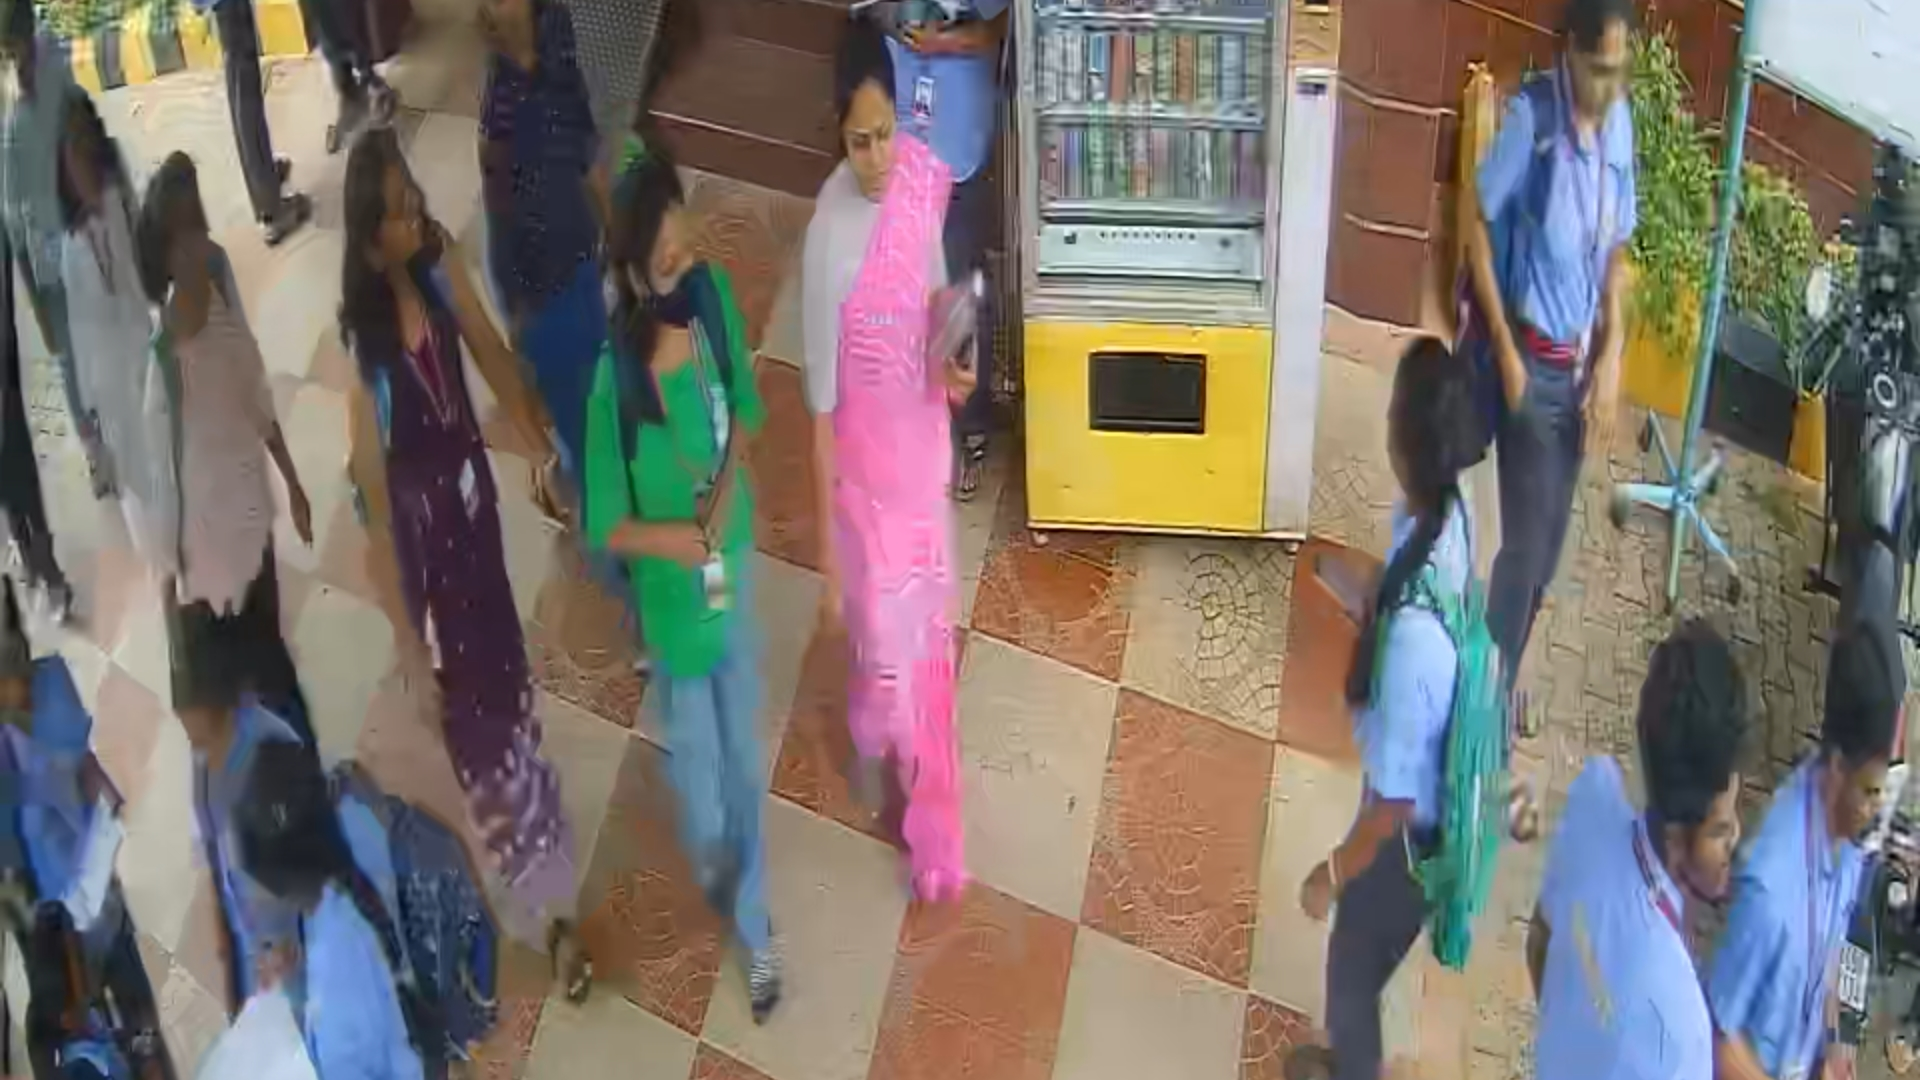intruder: (799, 33, 1005, 870), (113, 165, 330, 717)
not intruder: (332, 120, 625, 1000), (578, 145, 806, 1014), (1487, 1, 1623, 756), (37, 73, 189, 634), (1750, 644, 1905, 1080)
